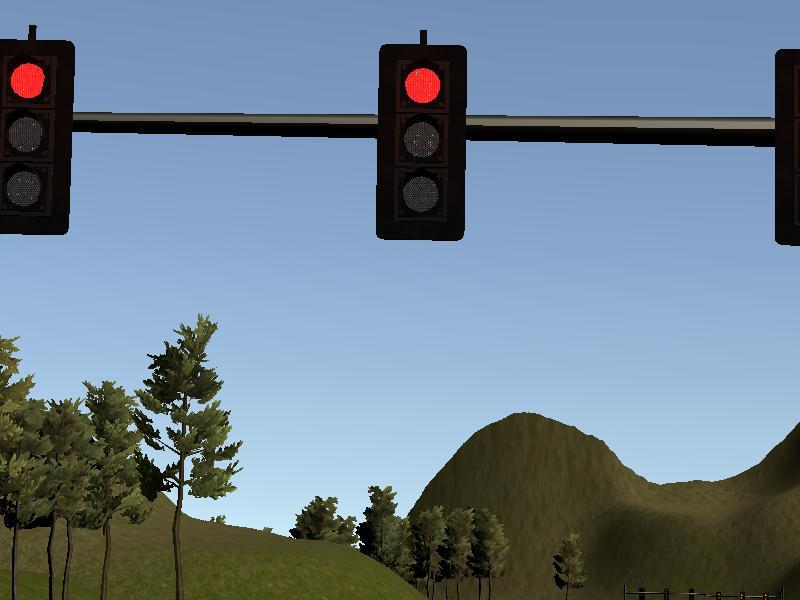Red: (382, 46, 465, 239), (1, 41, 70, 234)
